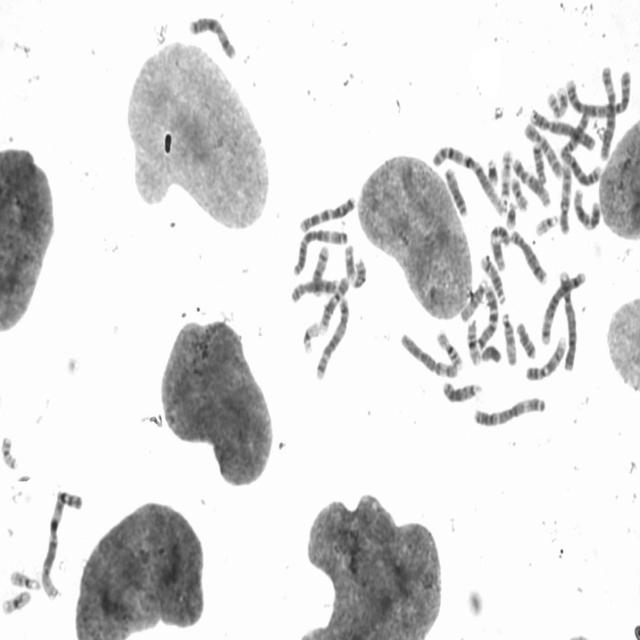A1: (430, 144, 506, 216), (39, 486, 84, 602)
A2: (563, 68, 634, 119), (558, 108, 603, 187)
A3: (291, 225, 348, 277), (472, 393, 546, 429)
B4: (528, 106, 596, 152), (556, 268, 580, 371)
B5: (539, 268, 588, 345), (313, 294, 350, 381)
C10: (523, 119, 564, 180), (558, 160, 572, 236)
C11: (342, 240, 367, 290), (488, 221, 511, 272)
C12: (510, 155, 552, 208), (572, 185, 601, 232)
C6: (398, 331, 459, 379), (597, 62, 618, 163)
C7: (297, 192, 356, 234), (474, 282, 500, 351)
C8: (508, 226, 548, 287), (288, 275, 340, 304)
C9: (523, 334, 568, 382), (318, 272, 351, 333)
D13: (443, 165, 469, 218), (439, 378, 484, 404)
D14: (478, 252, 506, 306), (310, 242, 330, 298)
D15: (458, 277, 488, 324), (500, 309, 517, 366)
E16: (435, 328, 464, 368), (465, 316, 482, 367)
E17: (544, 84, 569, 119), (499, 146, 512, 204)
E18: (514, 318, 538, 360), (530, 142, 548, 186)
F19: (0, 586, 32, 615), (300, 319, 320, 355)
F20: (1, 431, 21, 470), (508, 174, 528, 212)
G21: (503, 199, 518, 231), (485, 155, 499, 187)
G22: (8, 566, 42, 591), (533, 212, 559, 237)
X: (187, 13, 238, 61)
Y: (479, 342, 503, 364)
